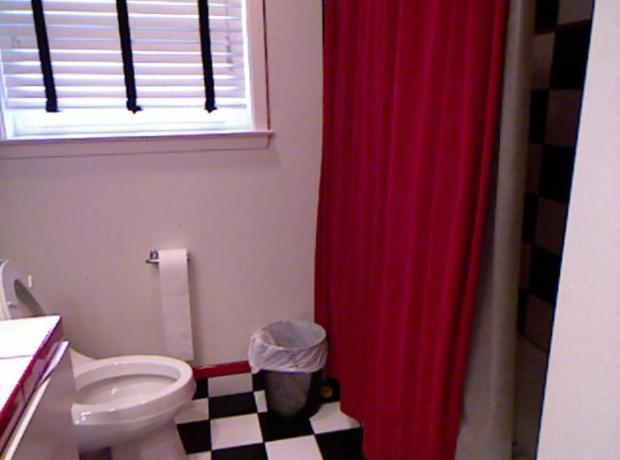Bote de Basura: (245, 302, 333, 418)
Ducha: (319, 7, 617, 444)
Sanitario: (1, 258, 195, 456)
